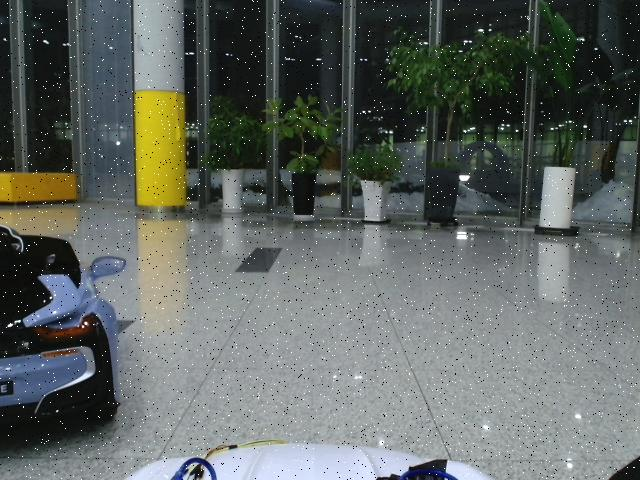car: (1, 225, 126, 445)
